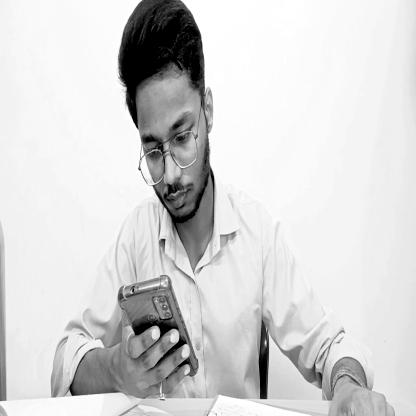Distracted: (124, 2, 217, 232)
